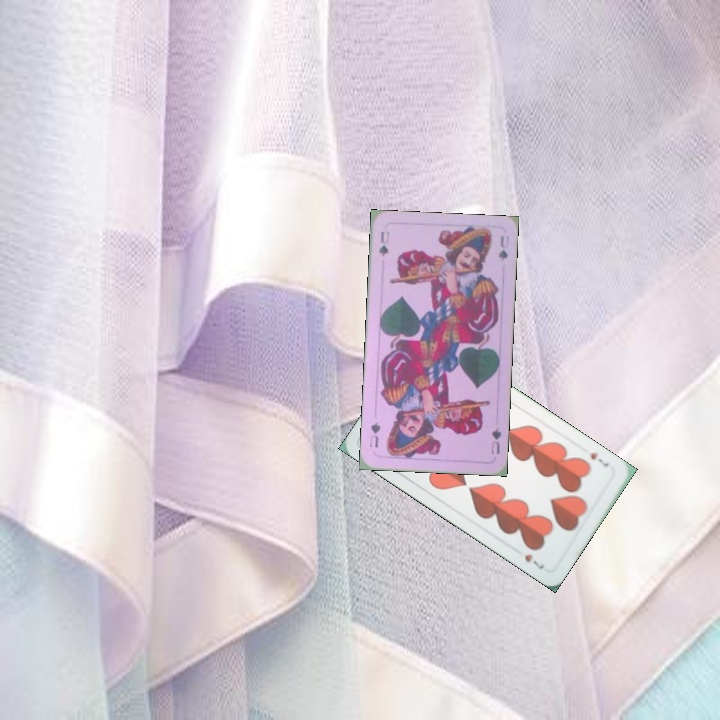GU: (487, 424, 504, 457), (375, 227, 392, 259)
H7: (586, 448, 612, 470)
